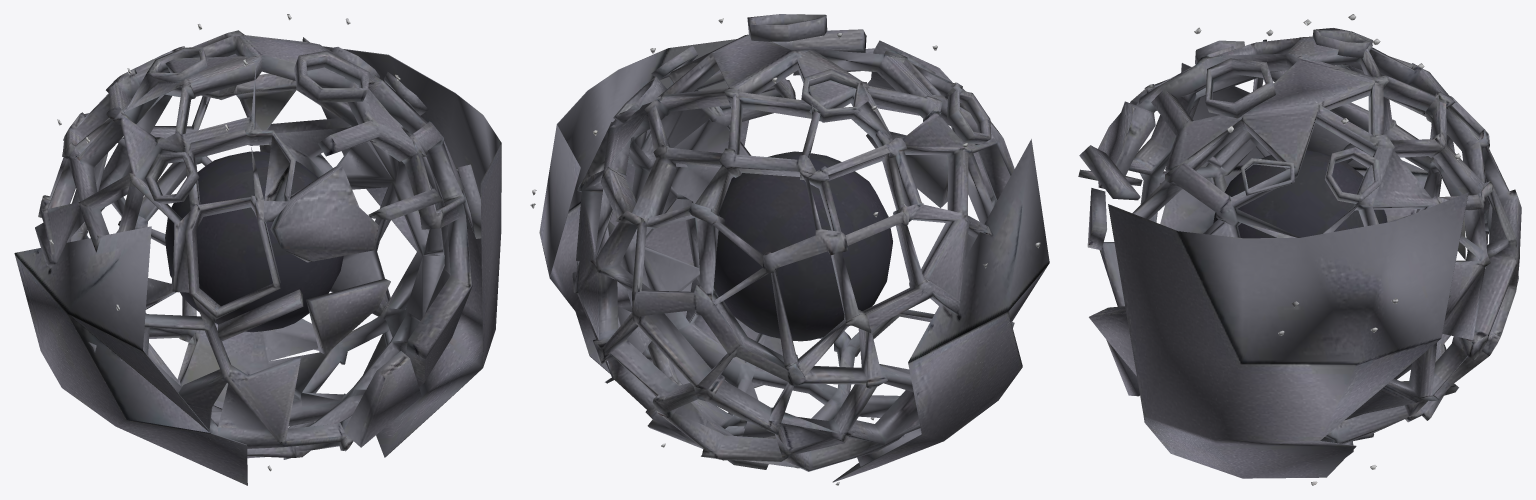
File: 019e3664-074f-7158-8669-099dff713145.glb
3 views of the same model, side by side, from view 1: azimuth 30°, elevation 25°; view 2: azimuth 150°, elevation 25°; view 3: azimuth 270°, elevation 25° (orthographic). The views are drawn at different scales.
Visible parts, largest first — view 1: tripo_node_8e596659-04bb-4440-985a-7917e33b94d4; view 2: tripo_node_8e596659-04bb-4440-985a-7917e33b94d4; view 3: tripo_node_8e596659-04bb-4440-985a-7917e33b94d4.
Part boxes in pixels (<box>): tripo_node_8e596659-04bb-4440-985a-7917e33b94d4: <box>14,14,501,485</box>; tripo_node_8e596659-04bb-4440-985a-7917e33b94d4: <box>530,14,1049,485</box>; tripo_node_8e596659-04bb-4440-985a-7917e33b94d4: <box>1078,14,1521,485</box>.
Size of the model in its own units: 0.998 by 0.9199 by 0.9277.
1 material, 1 textured.
